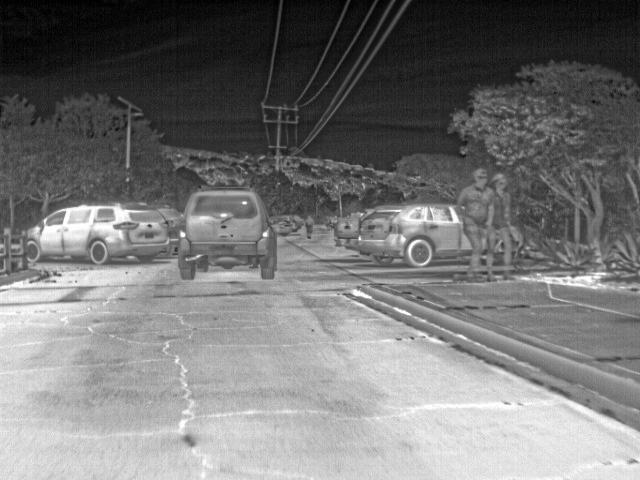car: (20, 200, 172, 264), (177, 185, 277, 280), (356, 200, 471, 268), (335, 212, 367, 251), (271, 212, 303, 230), (269, 220, 290, 238)
person: (456, 166, 492, 283), (488, 171, 514, 282), (304, 214, 315, 239)
